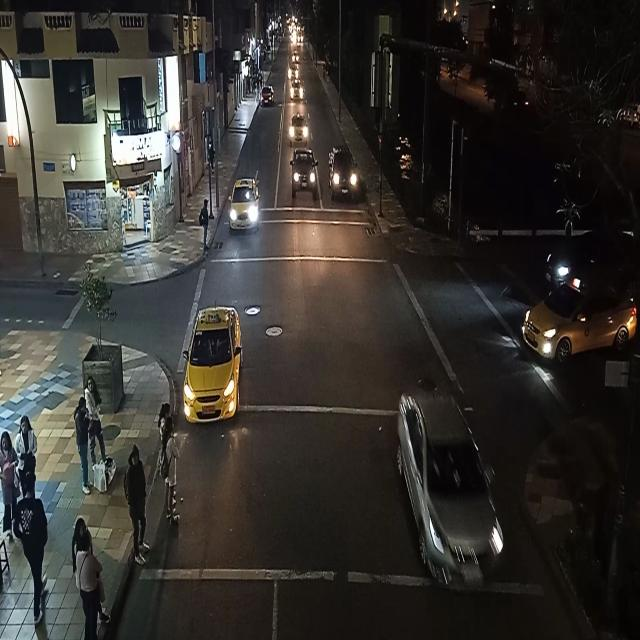CMT: (329, 148, 356, 196), (292, 150, 316, 190)
SED: (400, 390, 502, 583), (525, 282, 634, 360), (182, 307, 243, 424)
